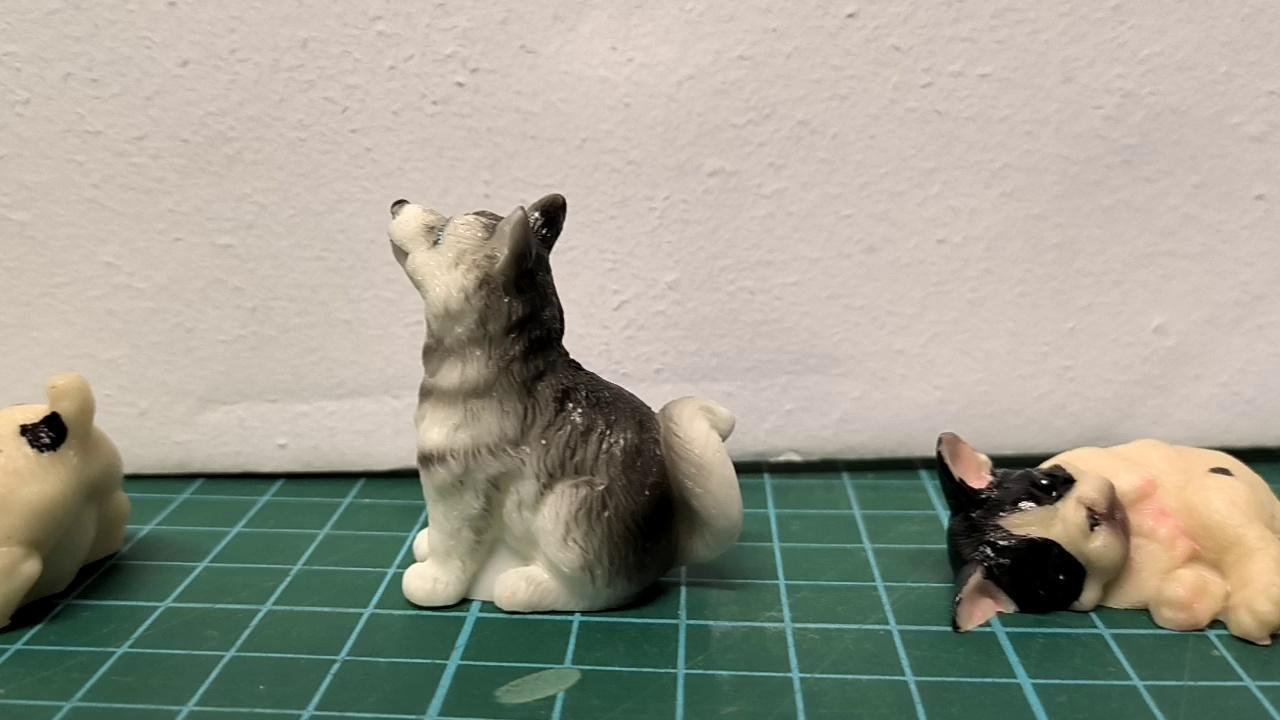pet: (386, 194, 748, 616), (935, 431, 1280, 645)
